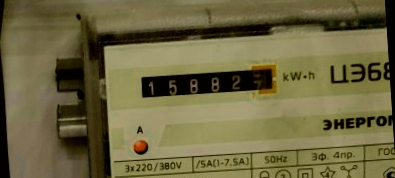1: (146, 78, 156, 95)
2: (230, 72, 241, 89)
5: (167, 77, 178, 93)
7: (252, 77, 262, 89)
8: (209, 74, 220, 92), (188, 77, 199, 93)
screen: (133, 58, 283, 107)
